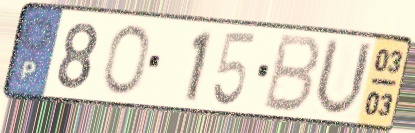1: (183, 28, 216, 104)
5: (210, 31, 258, 108)
8: (56, 20, 100, 91)
B: (259, 31, 326, 117)
O: (100, 22, 152, 98)
U: (310, 35, 376, 120)
